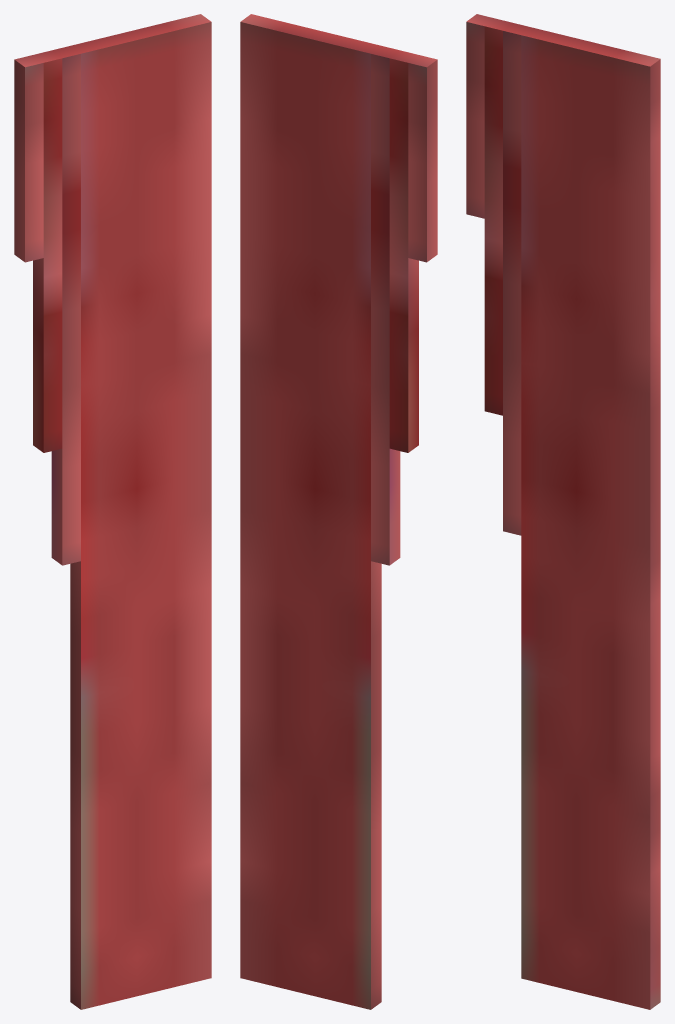
Rendered from Curtain_A_00.fbx.
3 views of the same model, side by side, from view 1: azimuth 30°, elevation 25°; view 2: azimuth 150°, elevation 25°; view 3: azimuth 330°, elevation 25° (orthographic).
Parts seen in each view (by area): view 1: Curtain_A_00; view 2: Curtain_A_00; view 3: Curtain_A_00.
Boxes of the visible parts, left/top/right/bottom form: Curtain_A_00: left=14, top=14, right=211, bottom=1009; Curtain_A_00: left=240, top=14, right=437, bottom=1009; Curtain_A_00: left=466, top=14, right=660, bottom=1009.
Bounding box in the file's own units: 50 × 245 × 5.
